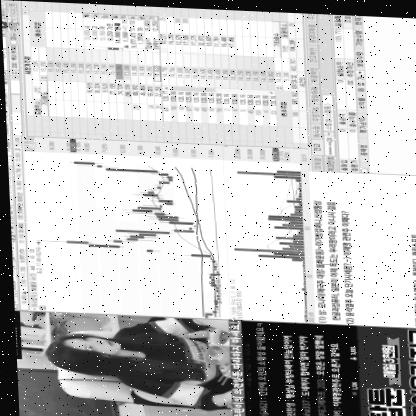streamer: (40, 312, 228, 410)
